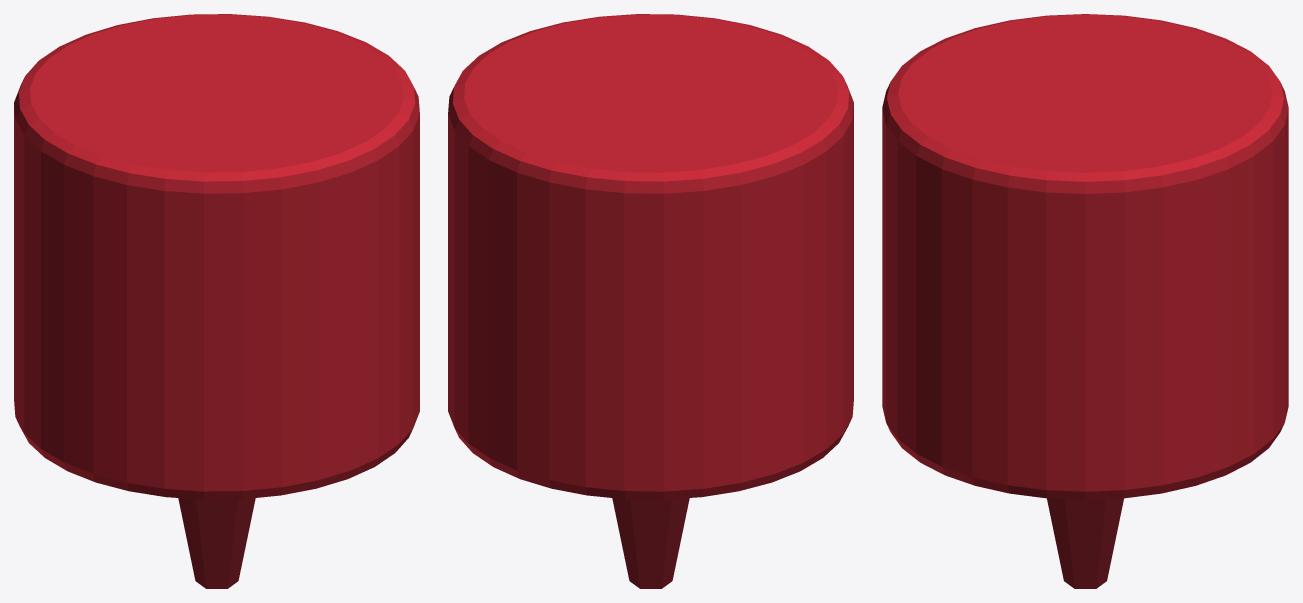
Rendered from pin_1.fbx.
The picture shows the model from 3 angles, left to right: view 1: azimuth 30°, elevation 25°; view 2: azimuth 150°, elevation 25°; view 3: azimuth 270°, elevation 25°; orthographic projection.
Parts seen in each view (by area): view 1: Pin1; view 2: Pin1; view 3: Pin1.
Part boxes in pixels (bbox=[...]): Pin1: bbox=[14, 14, 419, 588]; Pin1: bbox=[448, 14, 853, 588]; Pin1: bbox=[882, 14, 1288, 588].
Bounding box in the file's own units: 8.51 × 11.26 × 8.51.
